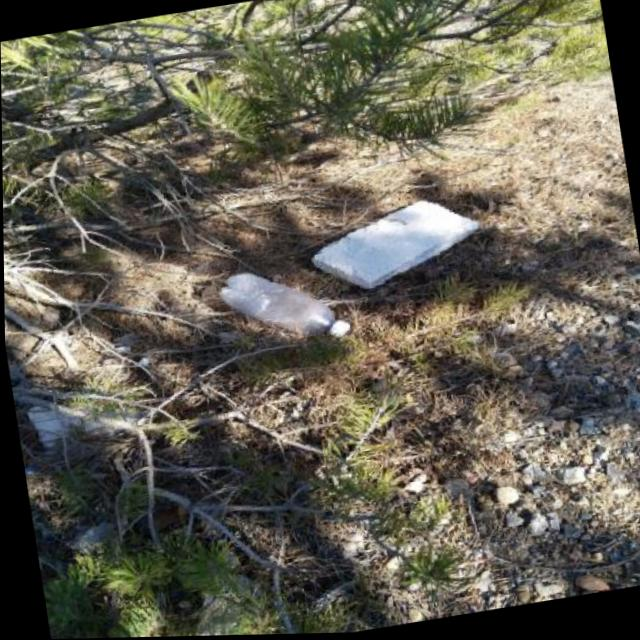foam: (306, 192, 486, 299)
plastic: (217, 256, 352, 356)
